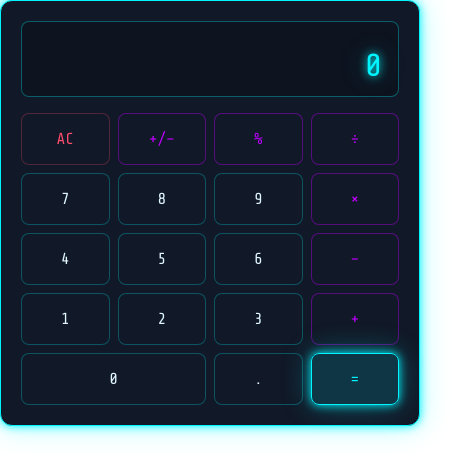
Scenario: Calculator — decimal › adds decimal point
Click the button "3" at (258, 319), box [214, 293, 302, 345]
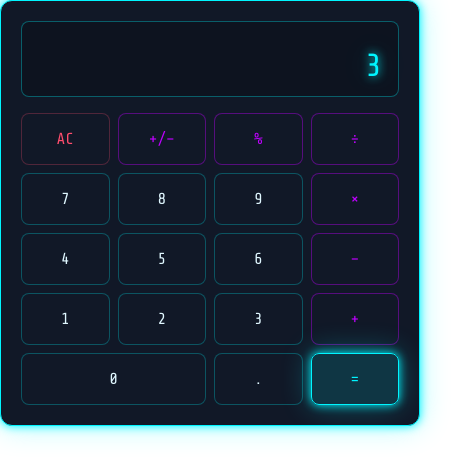
Click the button "." at (258, 379), box [214, 353, 302, 405]
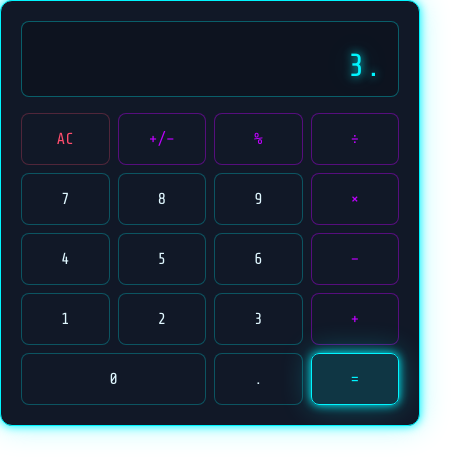
Click the button "1" at (65, 319), box [21, 293, 110, 345]
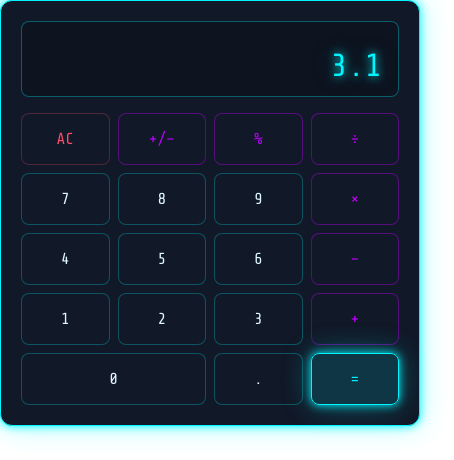
Expected: the text with class "display-value" reads "3.1", [330, 48, 382, 84]
